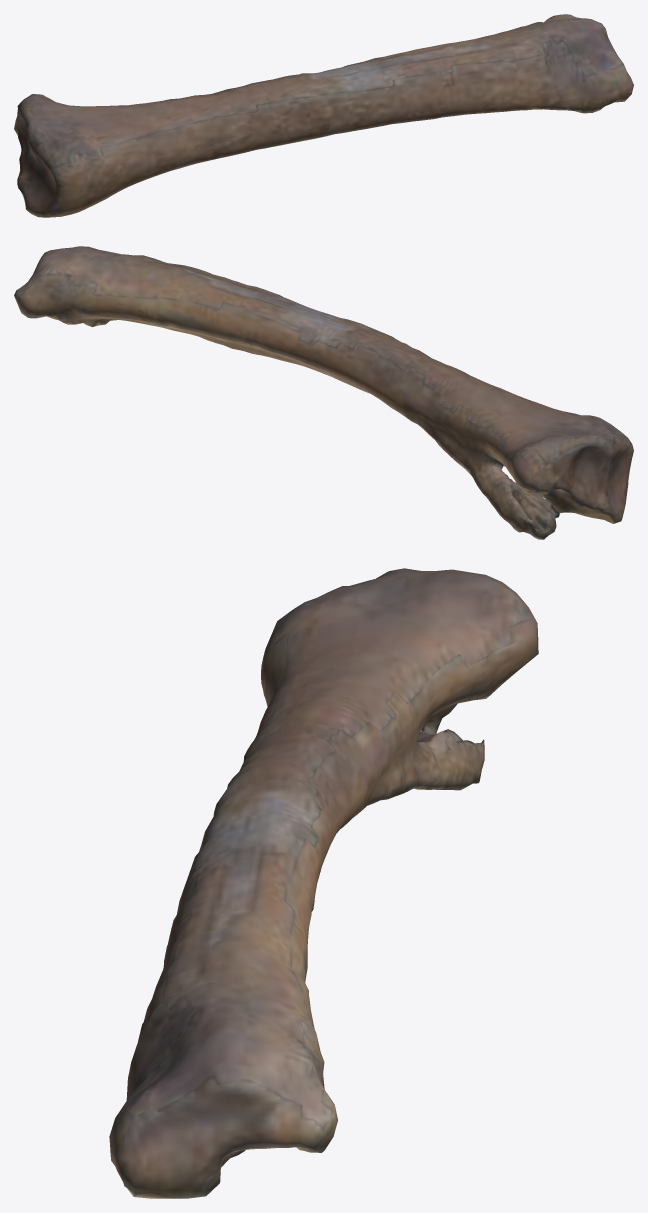
File: horse_bone.glb
3 renders of one model, top to bottom at view 1: azimuth 30°, elevation 25°; view 2: azimuth 150°, elevation 25°; view 3: azimuth 270°, elevation 25°, orthographic. The views are drawn at different scales.
Visible parts, largest first — view 1: Object_2; view 2: Object_2; view 3: Object_2.
Part boxes in pixels (left/top/right/bottom): Object_2: left=14, top=14, right=633, bottom=217; Object_2: left=14, top=246, right=633, bottom=539; Object_2: left=109, top=568, right=538, bottom=1198.
Bounding box in the file's own units: 2.97 × 0.517 × 1.
1 material, 1 textured.
